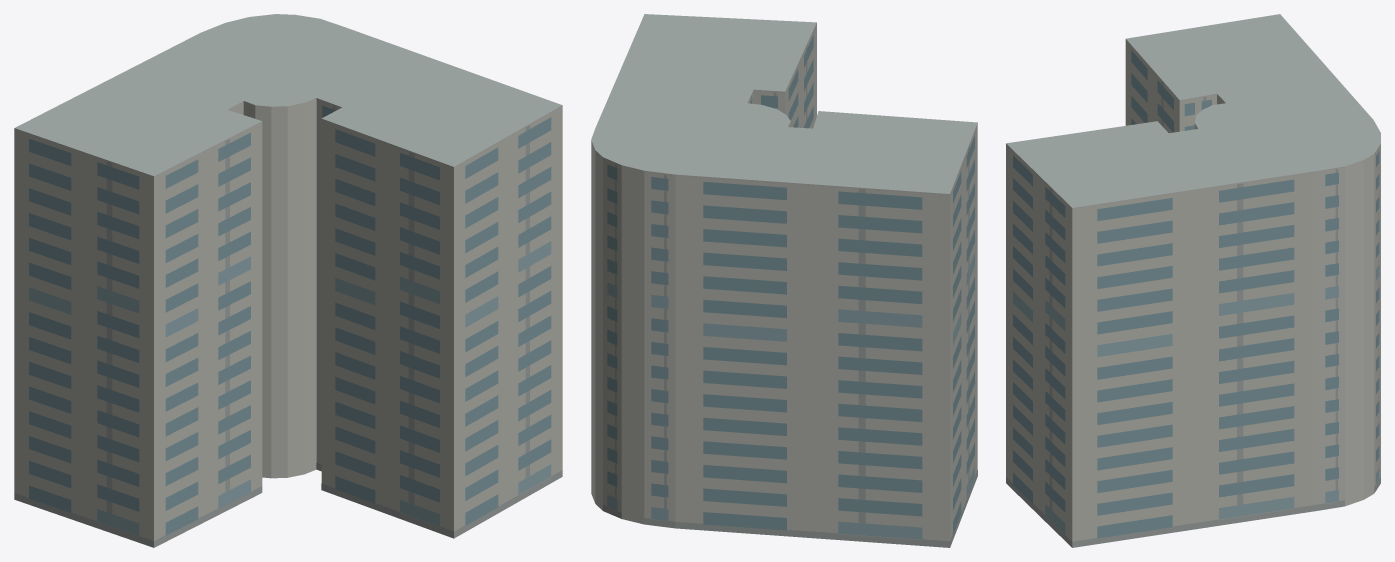
File: survey-upis-32991903.glb
3 views of the same model, side by side, from view 1: azimuth 30°, elevation 25°; view 2: azimuth 150°, elevation 25°; view 3: azimuth 270°, elevation 25° (orthographic). The views are drawn at different scales.
Parts seen in each view (by area): view 1: survey-upis-32991903.tmp; view 2: survey-upis-32991903.tmp; view 3: survey-upis-32991903.tmp.
Part boxes in pixels (x1,y1,x2,y2): survey-upis-32991903.tmp: (14, 14, 562, 547); survey-upis-32991903.tmp: (591, 14, 977, 547); survey-upis-32991903.tmp: (1006, 14, 1380, 547).
Size of the model in its own units: 82.67 by 67.55 by 67.52.
